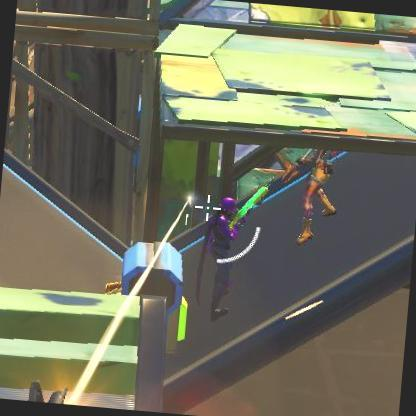person: (189, 194, 261, 338), (306, 159, 330, 241)
